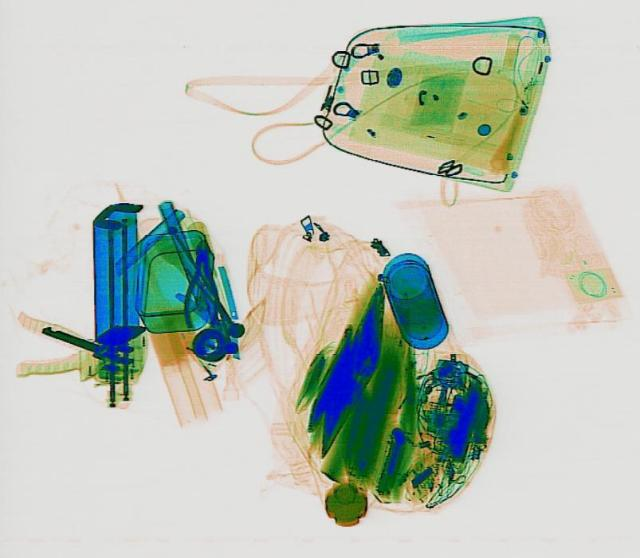Pliers: (182, 238, 218, 326)
